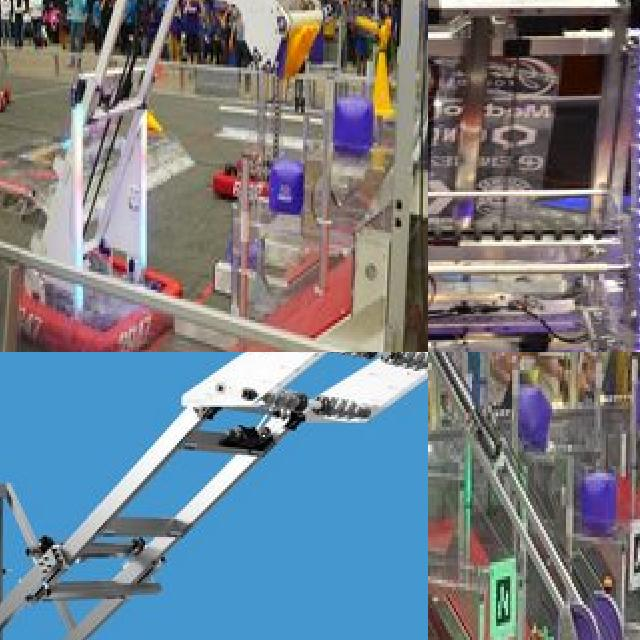FRC-Robots: (0, 352, 428, 640), (12, 0, 316, 352), (428, 0, 640, 352), (428, 352, 640, 640), (208, 0, 336, 209), (0, 52, 20, 108)
